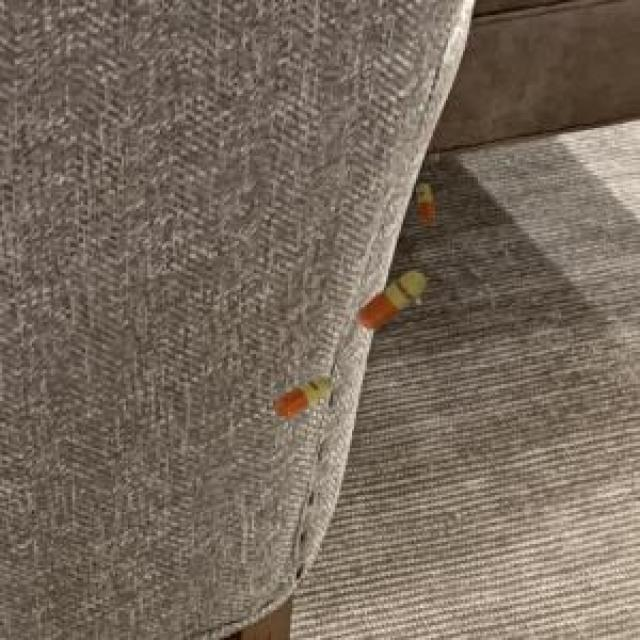Alaxan: (351, 265, 434, 342), (270, 368, 338, 422), (406, 171, 446, 232)
